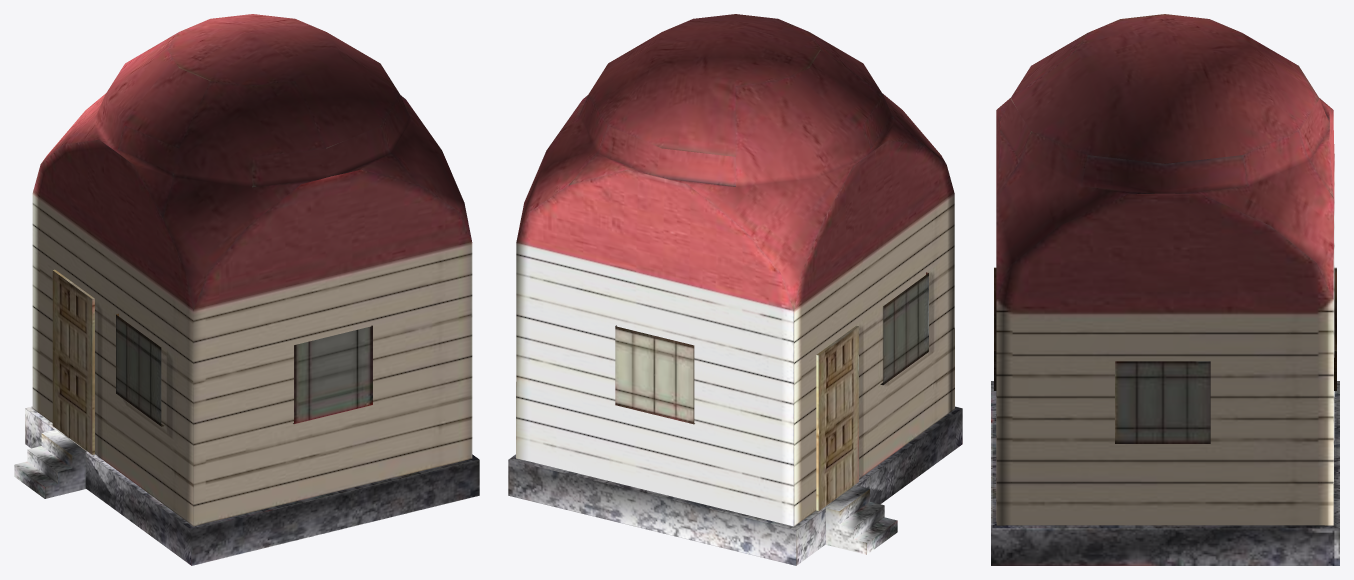
File: Casa4.fbx
3 renders of one model, left to right at view 1: azimuth 30°, elevation 25°; view 2: azimuth 150°, elevation 25°; view 3: azimuth 270°, elevation 25°, orthographic. The views are drawn at different scales.
Visible parts, largest first — view 1: Casa4_00; view 2: Casa4_00; view 3: Casa4_00.
Part boxes in pixels (x1,y1,x2,y2): Casa4_00: [14, 14, 479, 565]; Casa4_00: [508, 14, 962, 565]; Casa4_00: [991, 14, 1339, 565].
Size of the model in its own units: 3.42 by 4.35 by 3.
